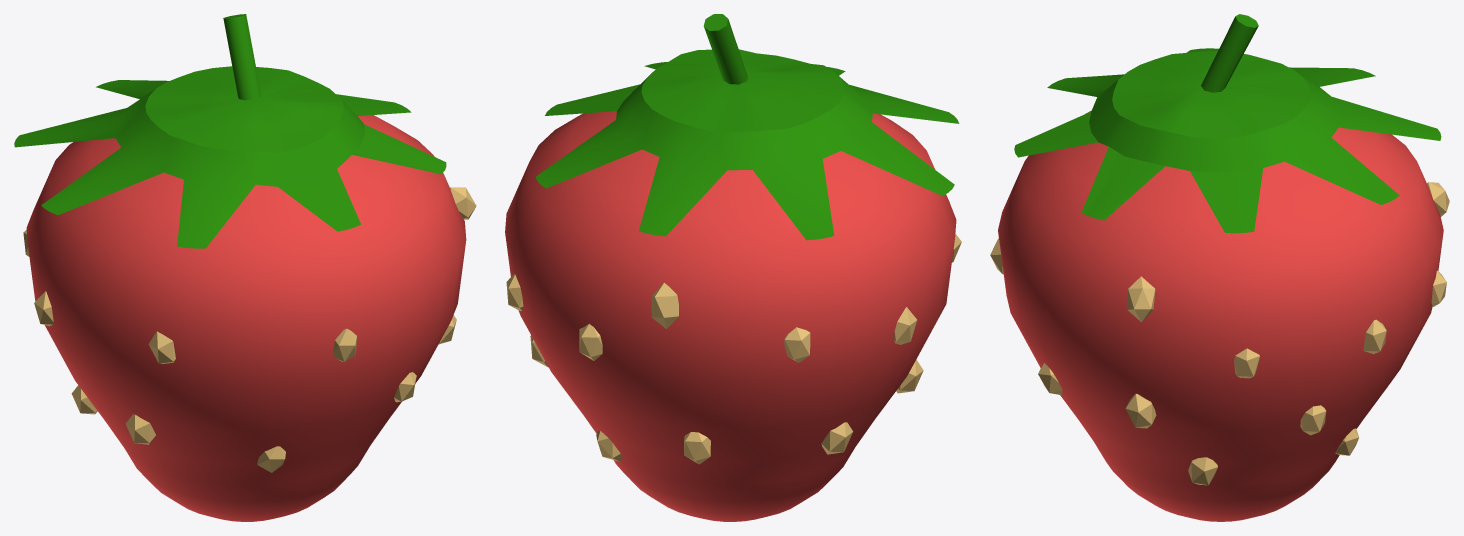
The model's file is Fruit_Strawberry.fbx.
The picture shows the model from 3 angles, left to right: view 1: azimuth 30°, elevation 25°; view 2: azimuth 150°, elevation 25°; view 3: azimuth 270°, elevation 25°; orthographic projection. The views are drawn at different scales.
Visible parts, largest first — view 1: Strawberry; view 2: Strawberry; view 3: Strawberry.
Boxes of the visible parts, x1,y1,x2,y2 form: Strawberry: [14, 14, 476, 521]; Strawberry: [505, 14, 961, 521]; Strawberry: [990, 14, 1449, 521].
Bounding box in the file's own units: 122 × 142 × 120.
